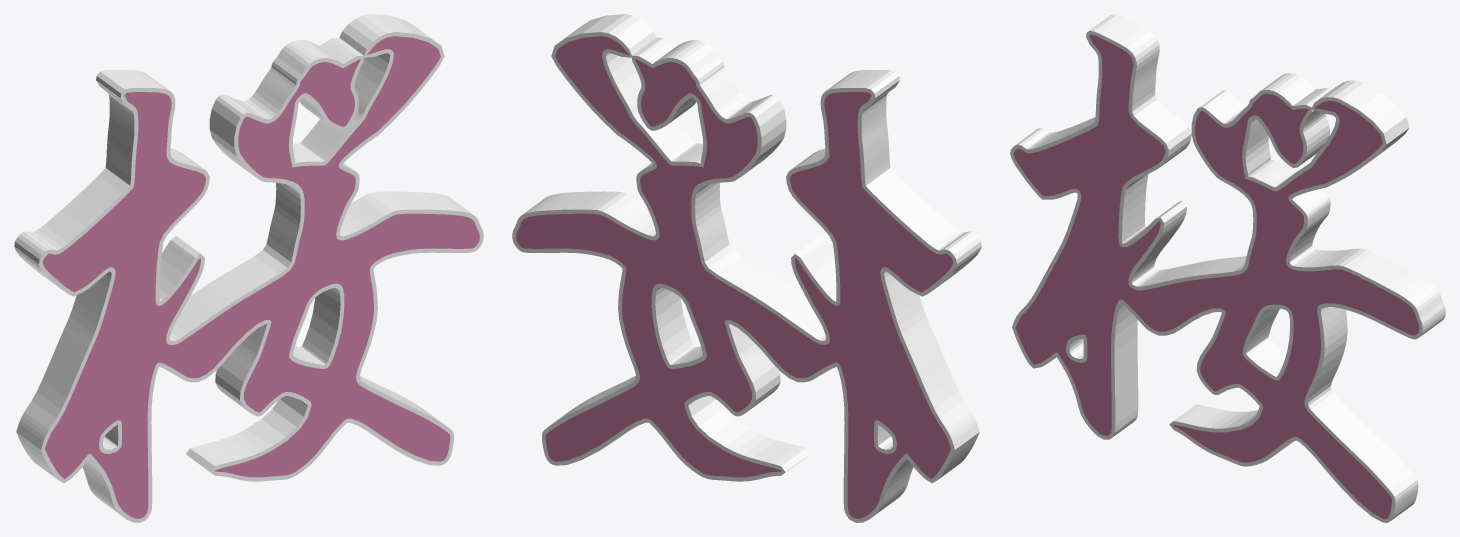
The model's file is model_sakura.glb.
3 views of the same model, side by side, from view 1: azimuth 30°, elevation 25°; view 2: azimuth 150°, elevation 25°; view 3: azimuth 330°, elevation 25° (orthographic). The views are drawn at different scales.
Visible parts, largest first — view 1: TraceGenius sakura.001, TraceGenius sakura.002; view 2: TraceGenius sakura.001, TraceGenius sakura.002; view 3: TraceGenius sakura.001, TraceGenius sakura.002.
Part boxes in pixels (left/top/right/bottom): TraceGenius sakura.001: left=43, top=36, right=479, bottom=518; TraceGenius sakura.002: left=14, top=14, right=483, bottom=522; TraceGenius sakura.001: left=516, top=36, right=952, bottom=518; TraceGenius sakura.002: left=512, top=14, right=981, bottom=522; TraceGenius sakura.001: left=1014, top=34, right=1419, bottom=518; TraceGenius sakura.002: left=1010, top=14, right=1445, bottom=522.
Size of the model in its own units: 3.43 by 3.35 by 0.33.
